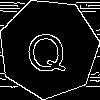Q: (24, 23, 68, 76)
